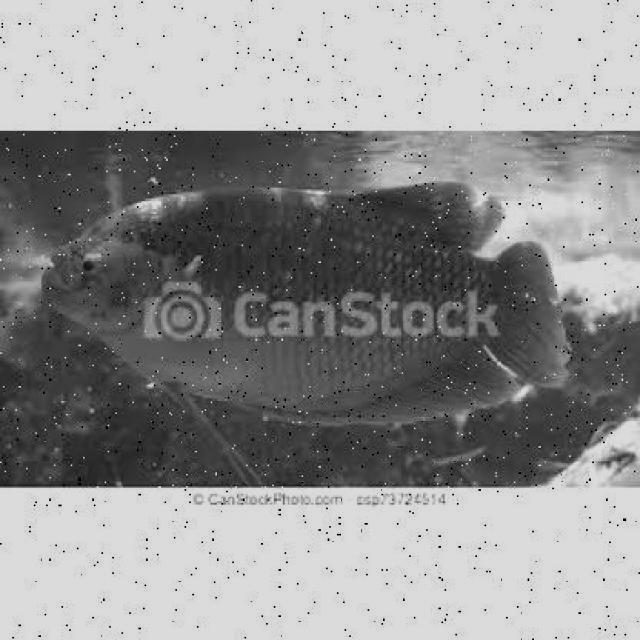gurame: (44, 186, 553, 420)
